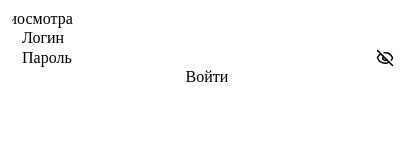
it: LoginForm › показывает ошибку входа
Type "admin" into the field with placeholder "Логин" at (207, 38), box [20,28,394,48]
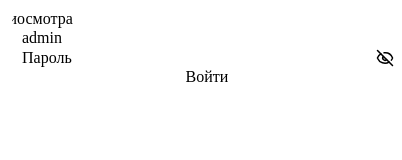
Type "wrong" into the password field with placeholder "Пароль" at (198, 58), box [20,48,376,68]
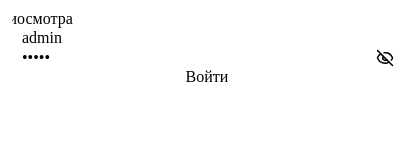
Click the button "Войти" at (207, 77), box [20,68,394,86]
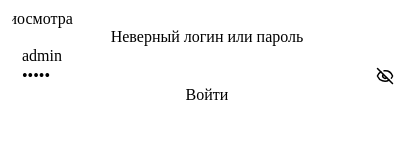
Check: the message reads "Неверный логин или пароль", box [111,28,303,45]
